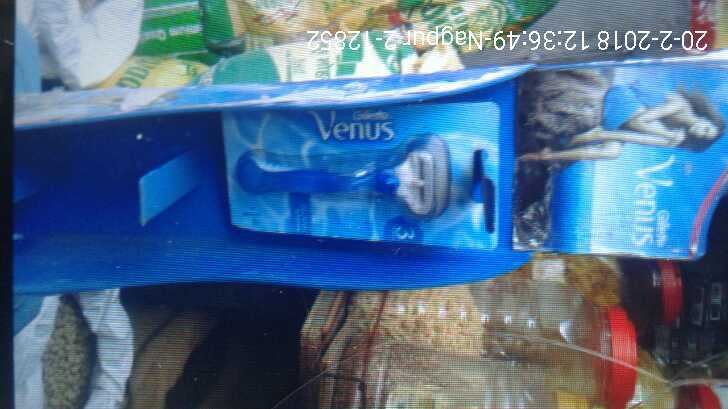venus: (211, 102, 511, 252)
